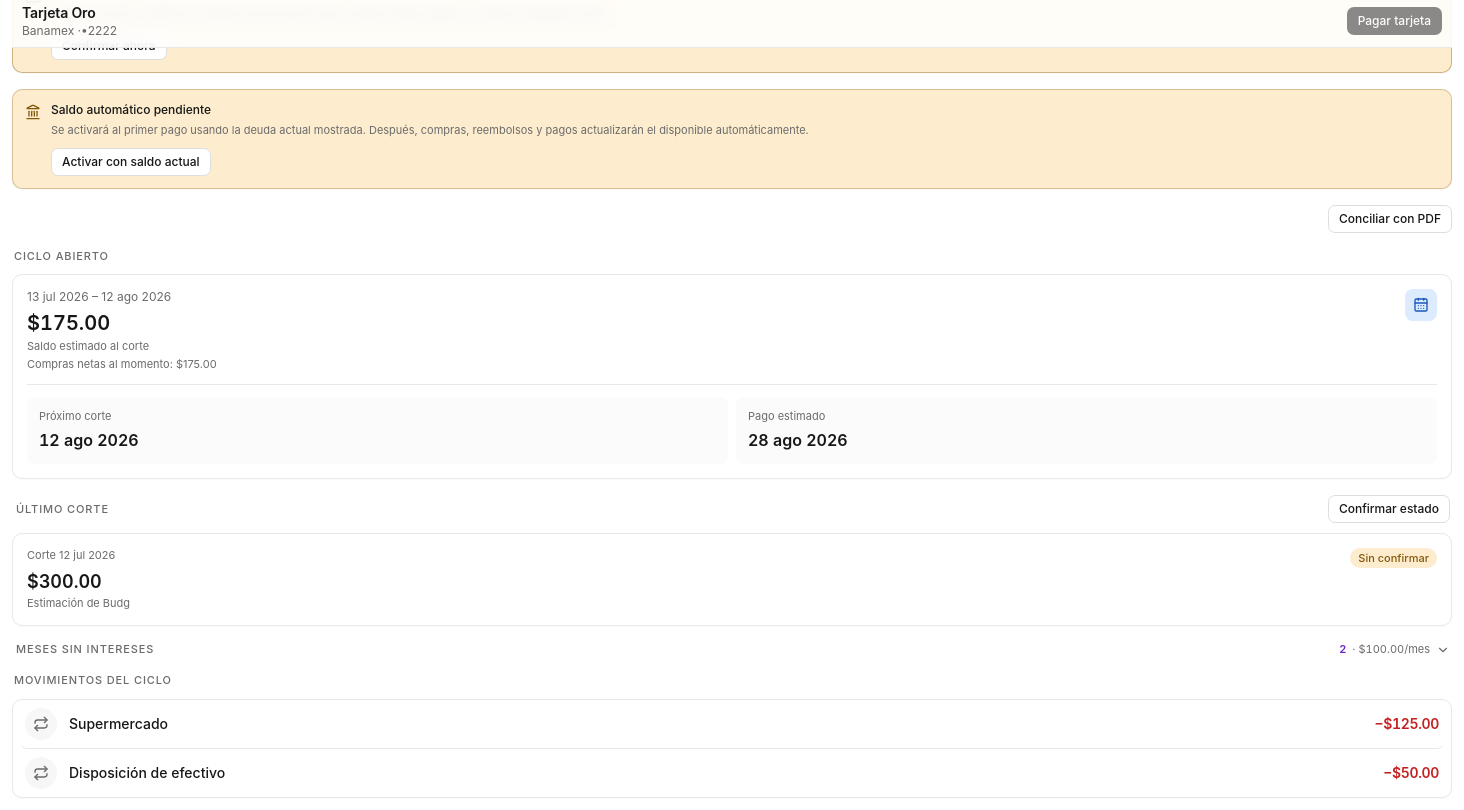
Test: CreditCardDetailPage › collapses MSI purchases behind a summary until expanded
(page scrolled)
Expected: the text "Laptop" is not shown
Step 1. Click the button with aria-label "Mostrar MSI de Tarjeta Oro" → (1395, 650), box [1339,642,1450,658]
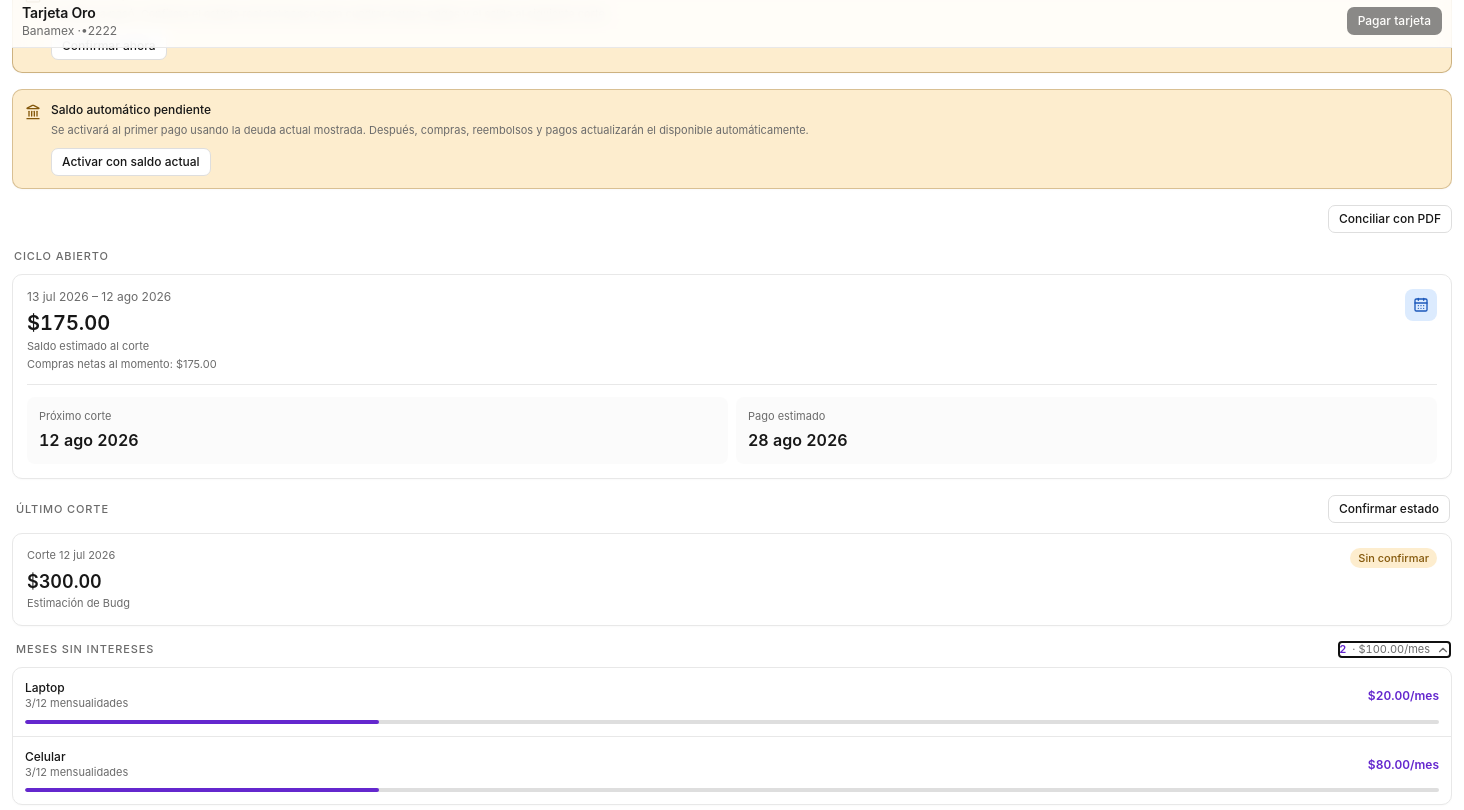
Expected: the button with aria-label "Mostrar MSI de Tarjeta Oro" is expanded, [1339,642,1450,658]
Expected: the text "Laptop" is shown, [25,680,65,696]
Expected: the text "Celular" is shown, [25,749,66,764]
